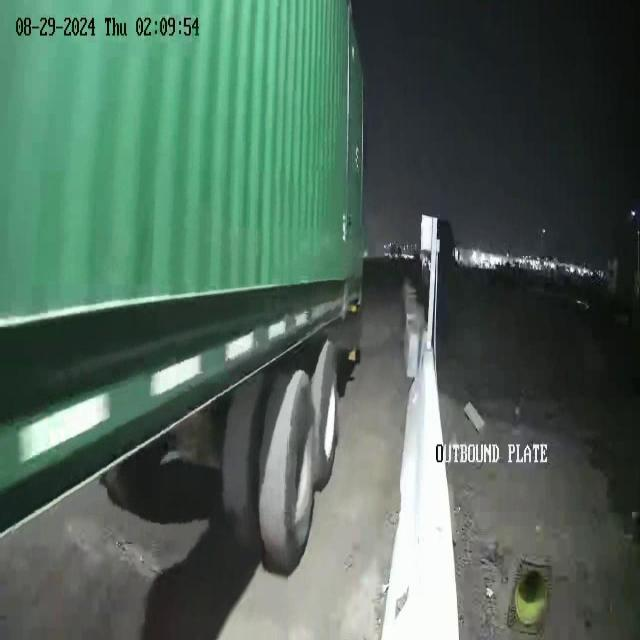TRUCK_OUT: (1, 1, 367, 546)
